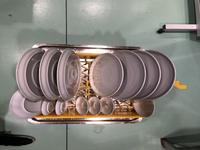Dish: (131, 49, 162, 101), (114, 50, 146, 100), (88, 53, 122, 97), (149, 50, 177, 101), (131, 101, 155, 118), (100, 97, 115, 115), (76, 97, 89, 115), (89, 97, 101, 115)
Inclined_dish: (16, 48, 47, 101), (56, 48, 80, 101), (39, 46, 62, 100), (10, 90, 41, 119), (41, 99, 54, 116), (55, 101, 66, 116)
